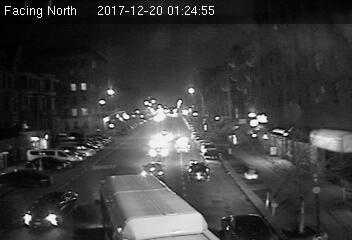car: (21, 189, 80, 227), (186, 159, 210, 184), (141, 162, 164, 181), (174, 139, 193, 154)
